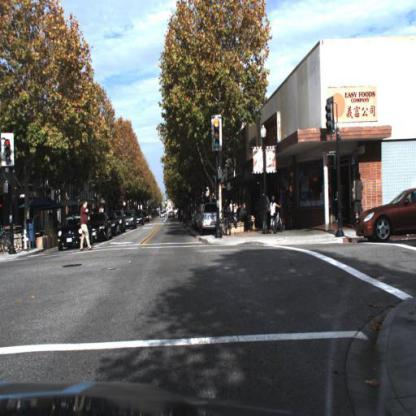car: (355, 193, 416, 244), (59, 214, 93, 251), (199, 200, 223, 239), (88, 212, 115, 239), (111, 214, 127, 236), (120, 211, 135, 231)
pedestrian: (277, 181, 298, 237), (352, 171, 366, 232), (268, 191, 286, 238), (80, 198, 93, 252), (238, 198, 254, 237), (259, 185, 271, 235), (280, 189, 292, 236), (270, 195, 280, 235), (35, 209, 41, 232), (180, 208, 185, 224)
trafficLight: (210, 115, 225, 156), (2, 130, 15, 170)
